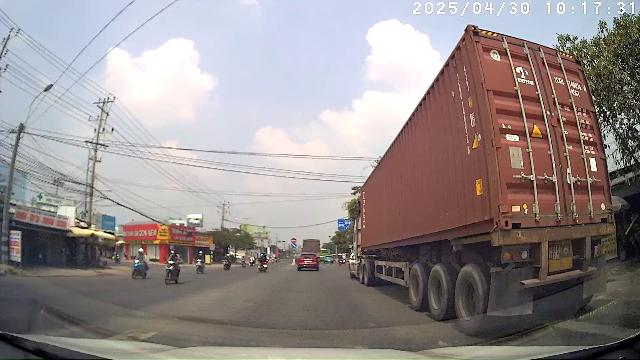102-cam-di-nguoc-chieu: (291, 238, 297, 243)
302a-huong-phai-di-vong-chuong-ngai-vat-1: (291, 243, 297, 248)
